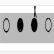correct: (16, 14, 24, 36)
not correct: (31, 6, 38, 33)
